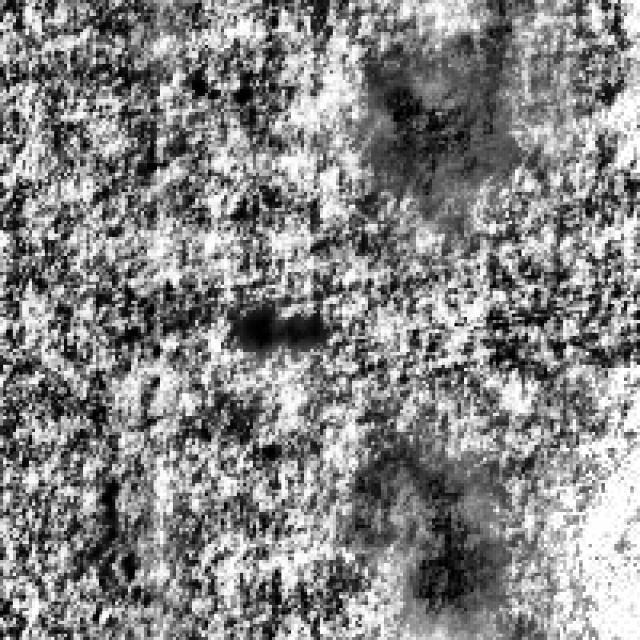Scratches: (358, 451, 489, 634), (368, 42, 502, 220)
